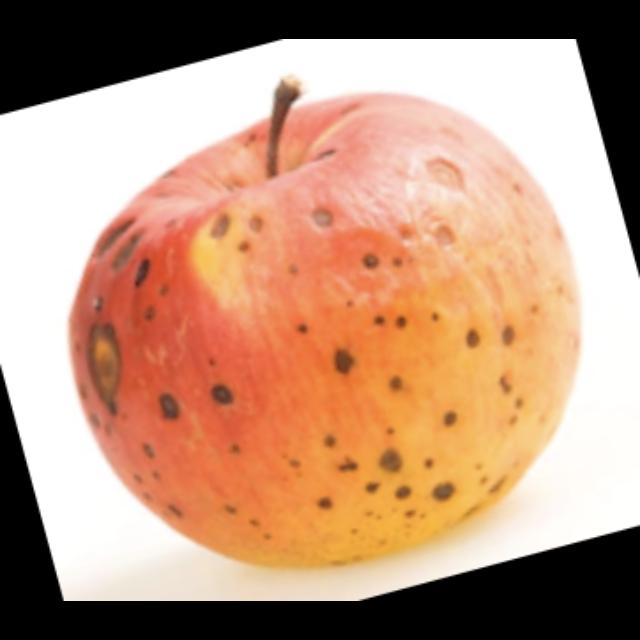Apel Tidak Segar: (70, 87, 582, 568)
